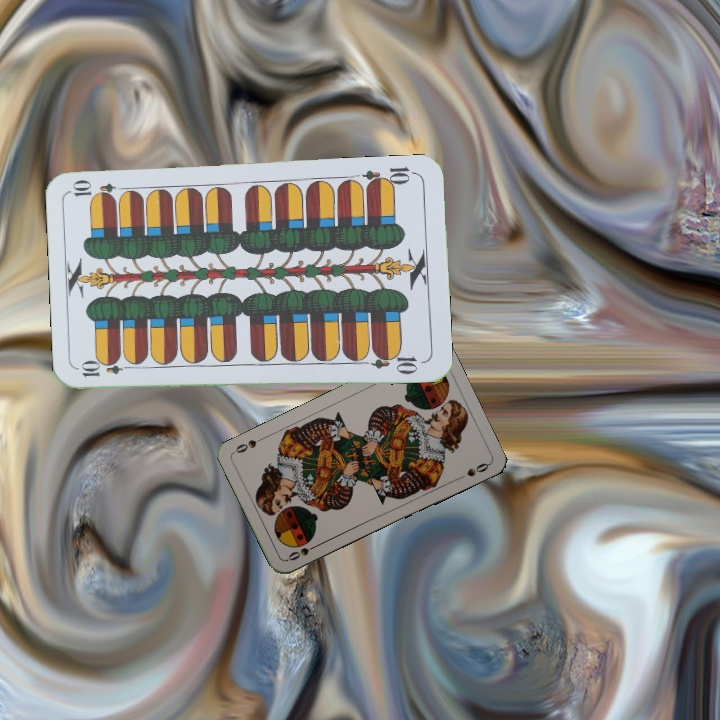E10: (359, 163, 418, 190), (77, 359, 136, 380)
SO: (283, 540, 321, 563)
